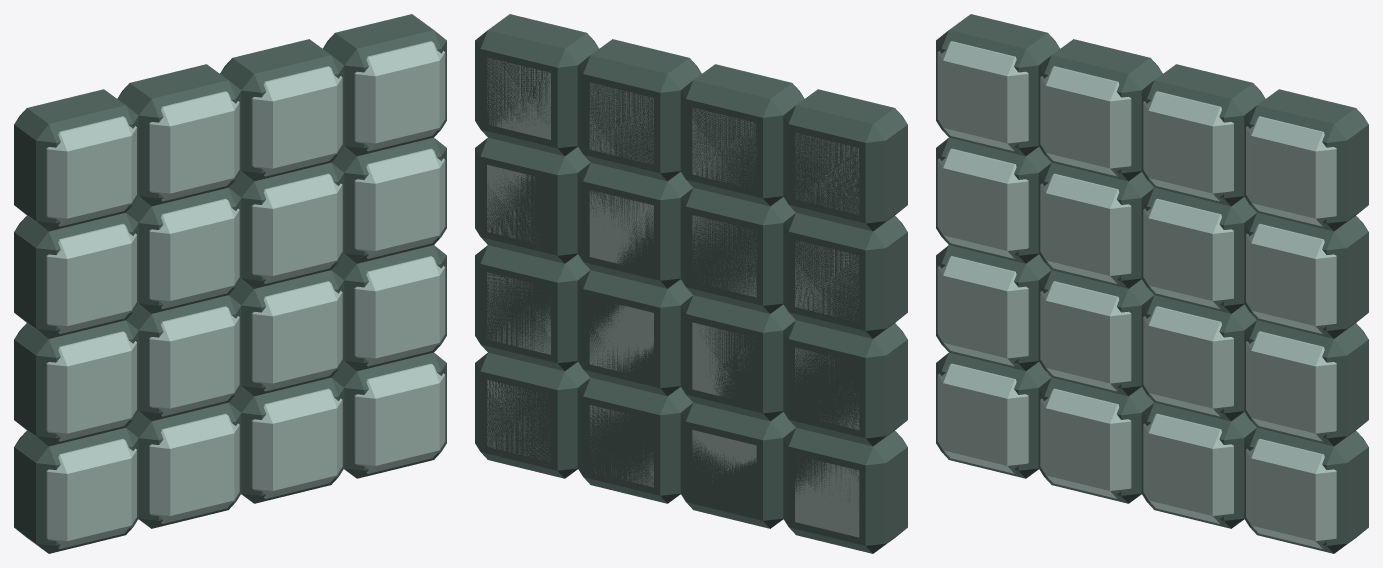
Rendered from Terrain_Block4x4.gltf.
3 renders of one model, left to right at view 1: azimuth 30°, elevation 25°; view 2: azimuth 150°, elevation 25°; view 3: azimuth 330°, elevation 25°, orthographic.
Visible parts, largest first — view 1: Terrain_Block4x4_baked; view 2: Terrain_Block4x4_baked; view 3: Terrain_Block4x4_baked.
Boxes of the visible parts, <box> form: Terrain_Block4x4_baked: <box>14,14,446,553</box>; Terrain_Block4x4_baked: <box>475,14,907,553</box>; Terrain_Block4x4_baked: <box>936,14,1368,553</box>.
Size of the model in its own units: 4 by 4 by 0.7.
